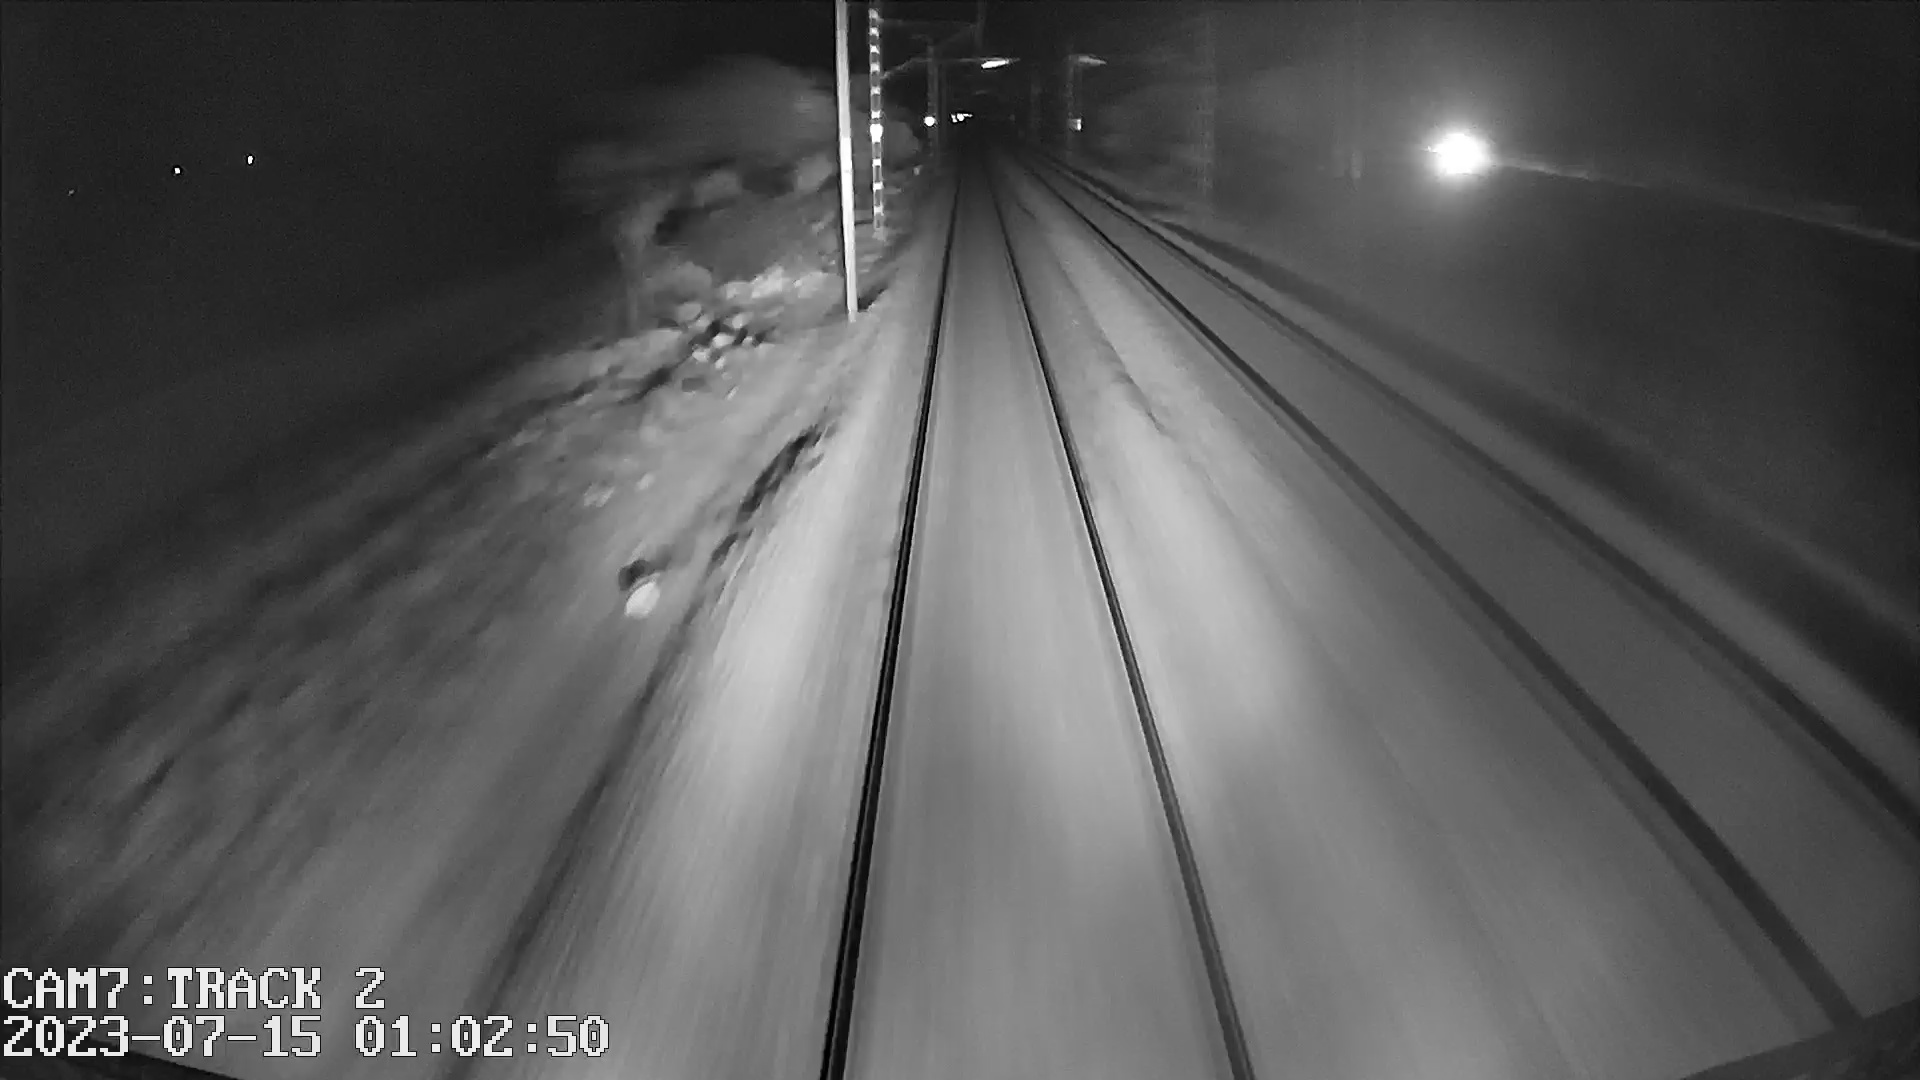track1: (836, 165, 1247, 1068)
track2: (1063, 195, 1905, 1004)
